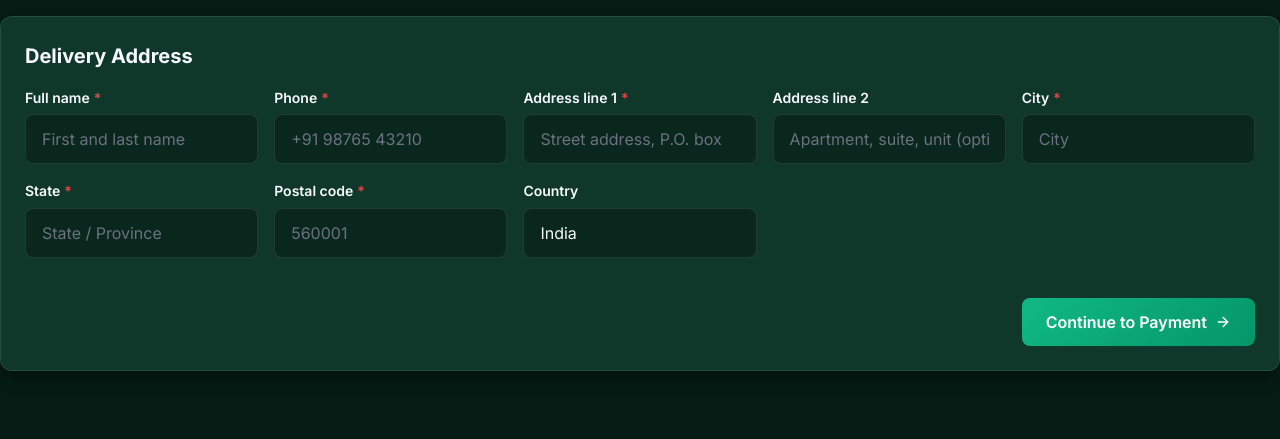
Test: CheckoutShippingForm (FD-12) › shows validation errors and does not submit an invalid address
Type "abc" into the field labelled "Phone *". click: (391, 139)
box: [274, 114, 507, 164]
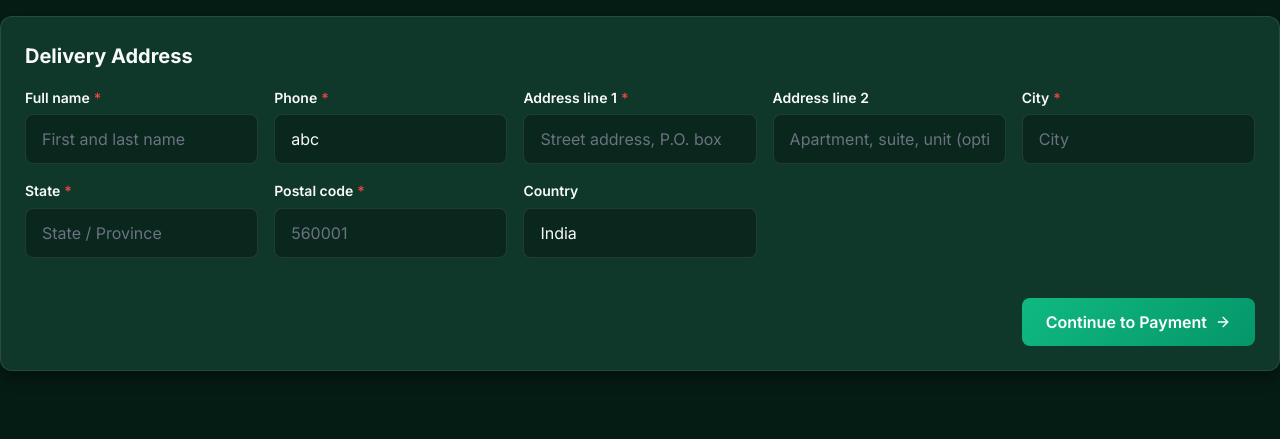
Click the button "Continue to Payment". click: (1138, 322)
box: [1022, 298, 1255, 346]
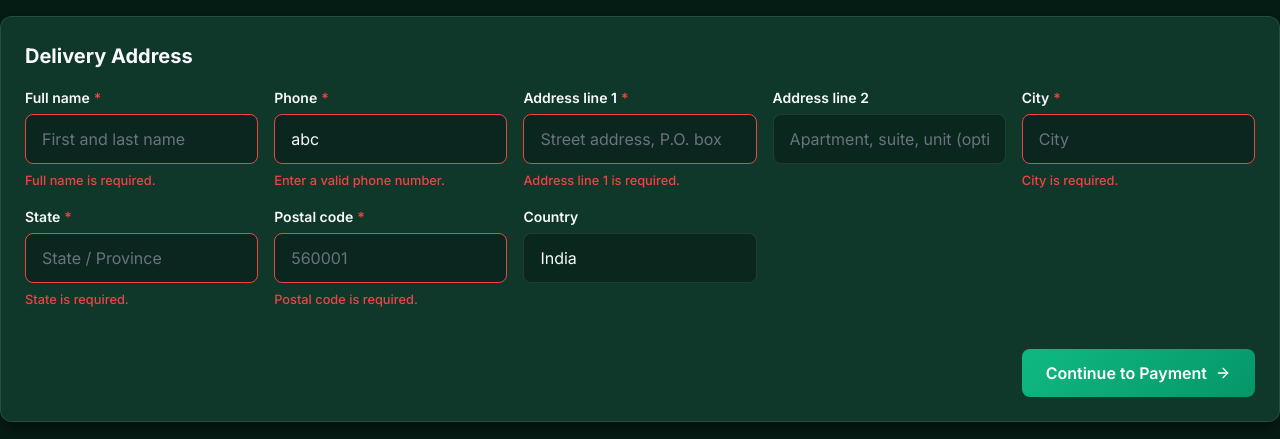
Expected: the text "Full name is required." is shown, [25, 173, 156, 188]
Expected: the text "Enter a valid phone number." is shown, [274, 173, 445, 188]
Expected: the text "City is required." is shown, [1022, 173, 1118, 188]
